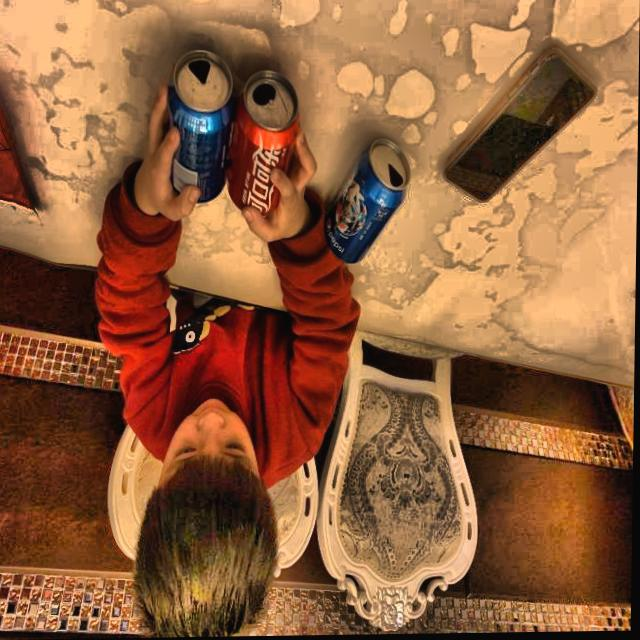can: (220, 64, 306, 230), (157, 41, 237, 210), (318, 137, 417, 268)
